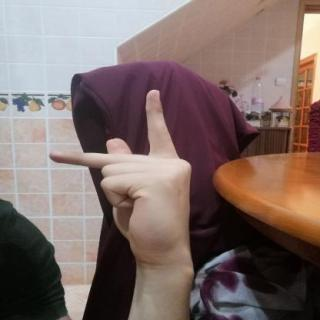DHAA: (37, 79, 197, 270)
